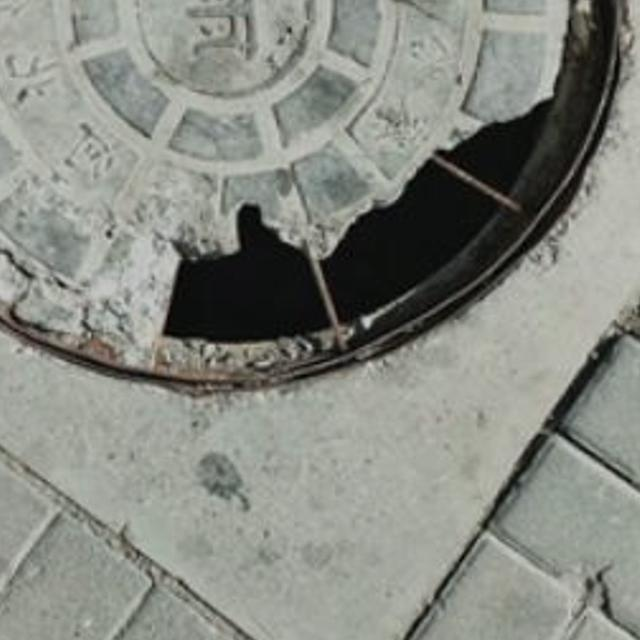broke: (0, 0, 640, 369)
